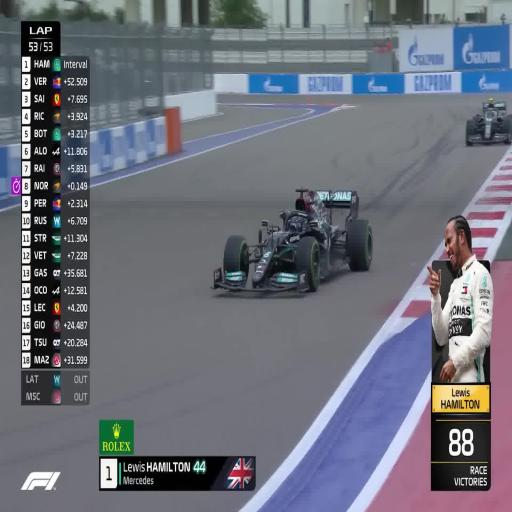f1_car: (212, 189, 372, 291), (466, 98, 512, 146)
